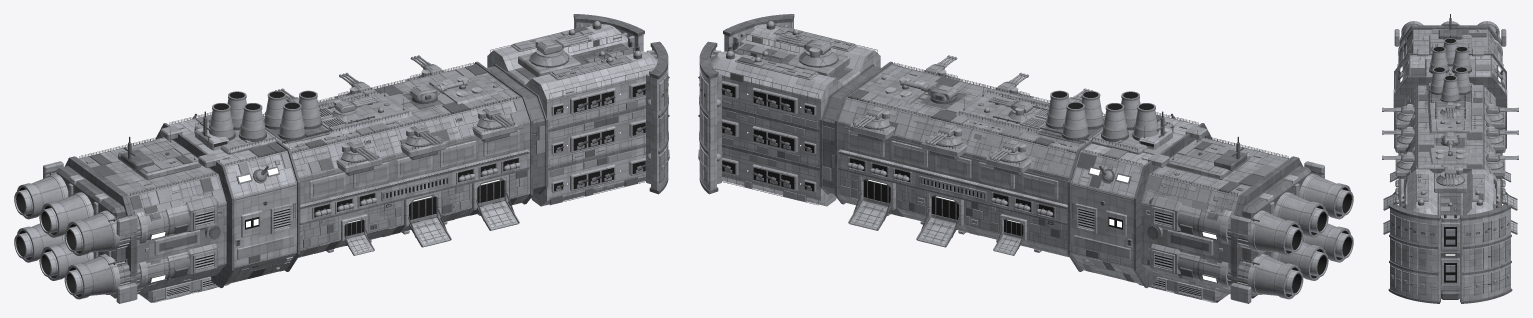
3 views of the same model, side by side, from view 1: azimuth 30°, elevation 25°; view 2: azimuth 150°, elevation 25°; view 3: azimuth 270°, elevation 25° (orthographic). The views are drawn at different scales.
Parts seen in each view (by area): view 1: hull_mid, hull_light, bow_light, hull_dark, superstructure_mid, engines.thruster.004, engines.thruster.005, engines_dark, hull.hangar_door.004, hull.hangar_door.003, shields_light, bow_mid (+29 smaller); view 2: hull_mid, hull_light, bow_light, hull_dark, superstructure_mid, engines.thruster.002, engines.thruster.003, engines_dark, hull.hangar_door.001, hull.hangar_door, shields_light, bow_mid (+29 smaller); view 3: shields_light, hull_mid, shields_mid, superstructure_mid, bow_light, hull_dark, shields_dark, bow_mid, hull_light, weapons_mid, bow_dark, superstructure_dark (+26 smaller).
Boxes of the visible parts, <box> form: hull_mid: <box>79,64,530,302</box>; hull_light: <box>154,114,530,299</box>; bow_light: <box>487,24,657,206</box>; hull_dark: <box>76,61,548,287</box>; superstructure_mid: <box>118,74,497,180</box>; engines.thruster.004: <box>64,195,218,255</box>; engines.thruster.005: <box>64,243,218,299</box>; engines_dark: <box>56,156,136,298</box>; hull.hangar_door.004: <box>404,191,451,247</box>; hull.hangar_door.003: <box>472,174,519,230</box>; shields_light: <box>574,18,668,190</box>; bow_mid: <box>507,26,634,87</box>; hull_mid: <box>837,64,1288,302</box>; hull_light: <box>837,114,1213,299</box>; bow_light: <box>710,24,880,206</box>; hull_dark: <box>819,61,1291,287</box>; superstructure_mid: <box>870,74,1249,180</box>; engines.thruster.002: <box>1149,195,1303,255</box>; engines.thruster.003: <box>1149,243,1303,299</box>; engines_dark: <box>1231,156,1311,298</box>; hull.hangar_door.001: <box>916,191,963,247</box>; hull.hangar_door: <box>848,174,895,230</box>; shields_light: <box>699,19,793,190</box>; bow_mid: <box>733,26,860,87</box>; shields_light: <box>1390,209,1510,301</box>; hull_mid: <box>1399,29,1501,205</box>; shields_mid: <box>1390,216,1510,295</box>; superstructure_mid: <box>1417,35,1483,164</box>; bow_light: <box>1407,169,1493,286</box>; hull_dark: <box>1394,27,1506,200</box>; shields_dark: <box>1388,204,1512,303</box>; bow_mid: <box>1416,173,1484,291</box>; hull_light: <box>1393,55,1507,206</box>; weapons_mid: <box>1395,112,1505,176</box>; bow_dark: <box>1439,193,1461,299</box>; superstructure_dark: <box>1429,18,1471,102</box>.
Size of the model in its own units: 321 by 84.02 by 86.52.
7 materials, 4 textured.
